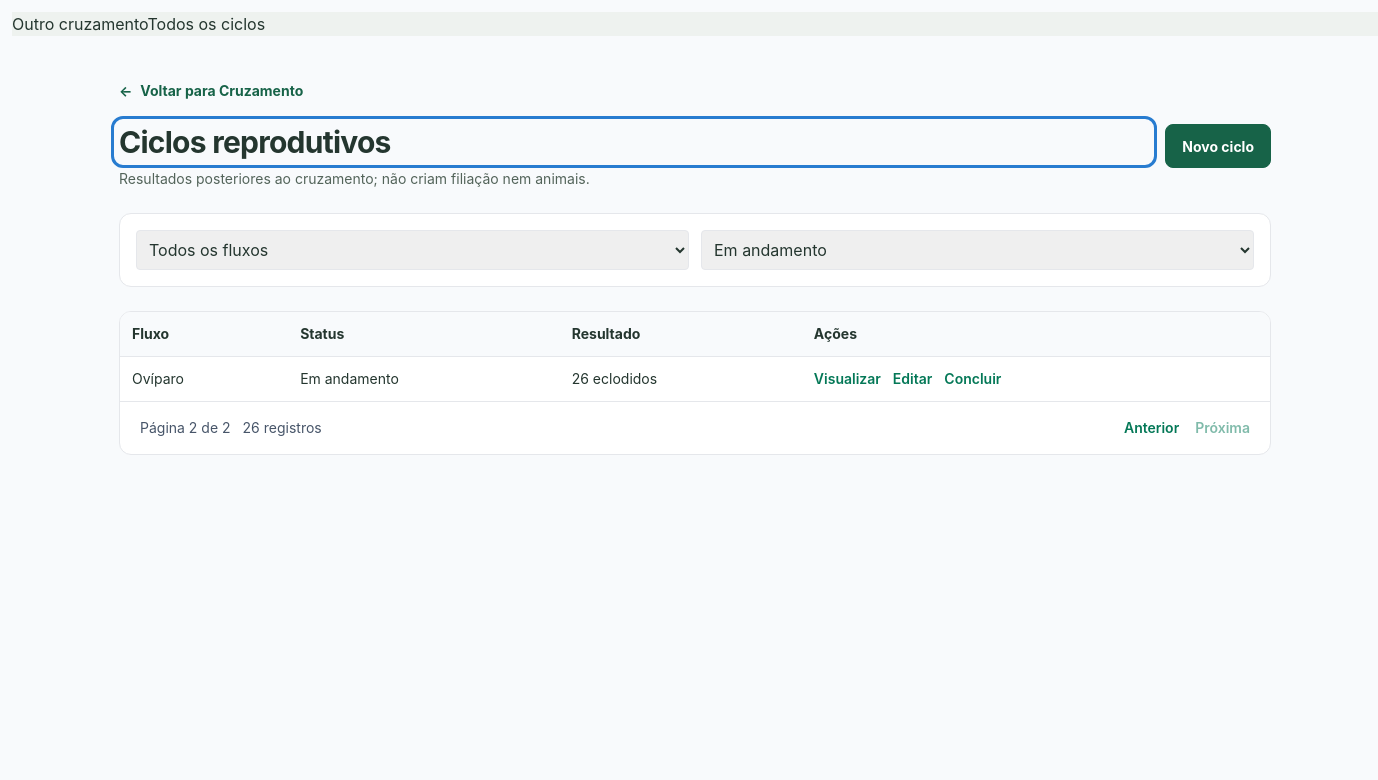
Scenario: ReproductiveCycleListPage pagination › keeps the list page, filters and parent after saving an edit from Editar
Expected: the text "26 eclodidos" is shown, [560, 356, 802, 401]
Click the link "Editar".
click(913, 379)  # box [893, 369, 932, 389]
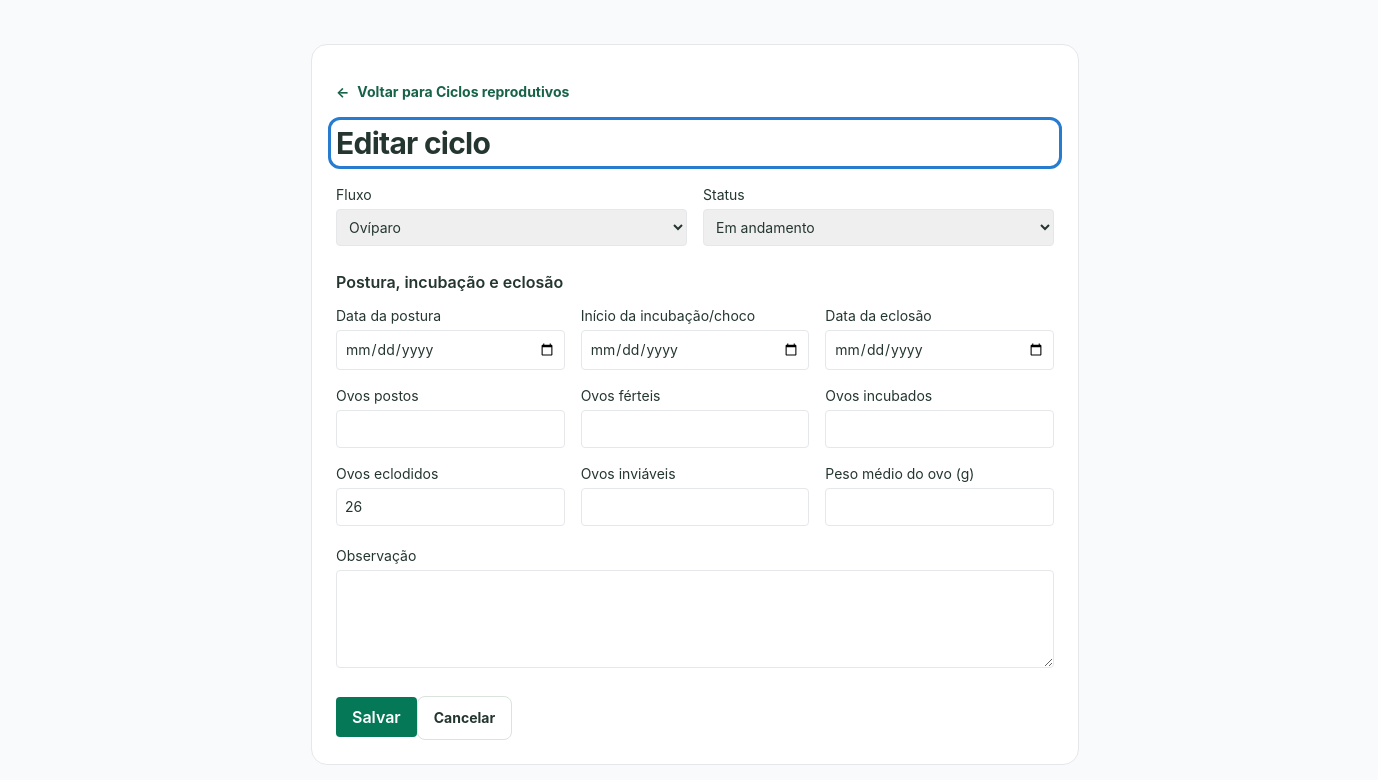
Expected: the number field showing "26" is shown, [336, 488, 565, 526]
Type "TEST-PAGINATION" into the text box labelled "Observação".
click(695, 619); type("TEST-PAGINATION")  # box [336, 570, 1054, 668]
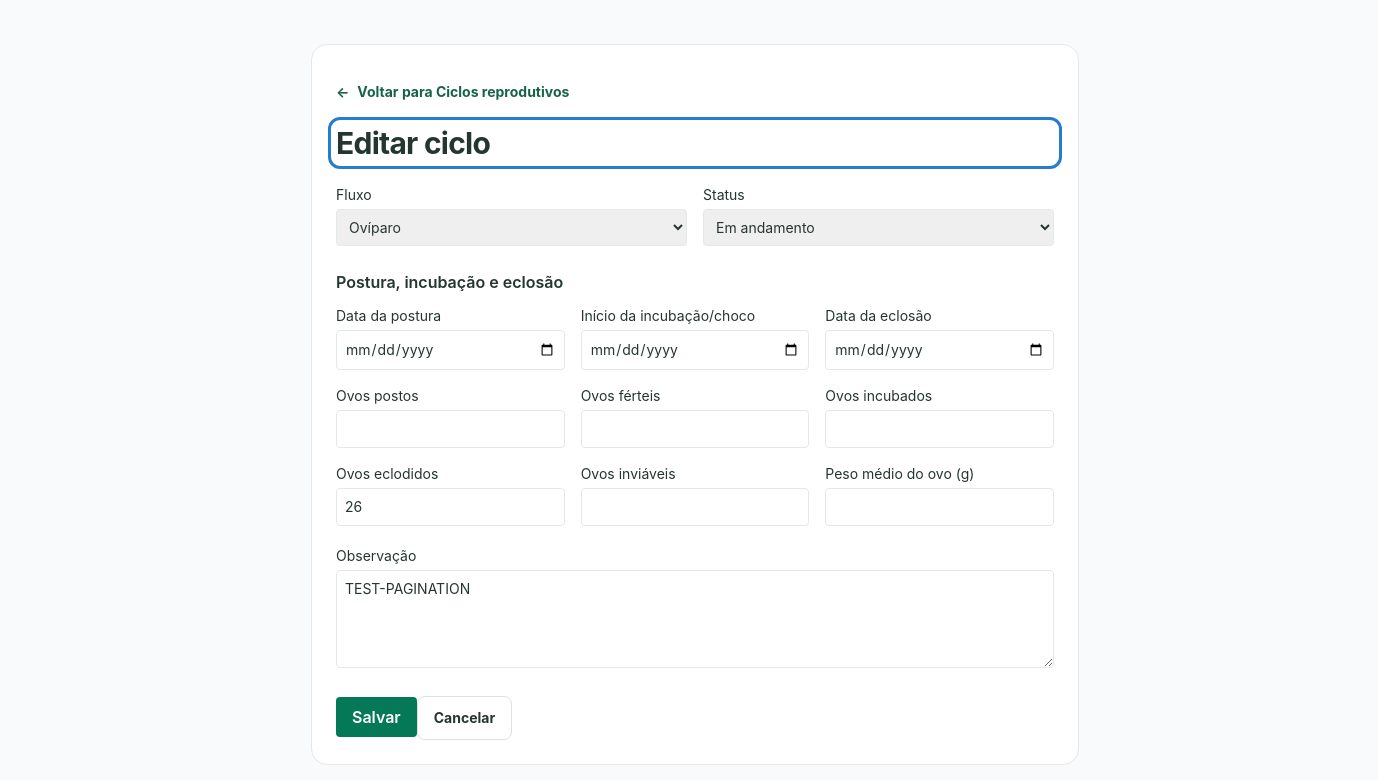
Click the button "Salvar".
click(376, 717)  # box [336, 697, 417, 737]
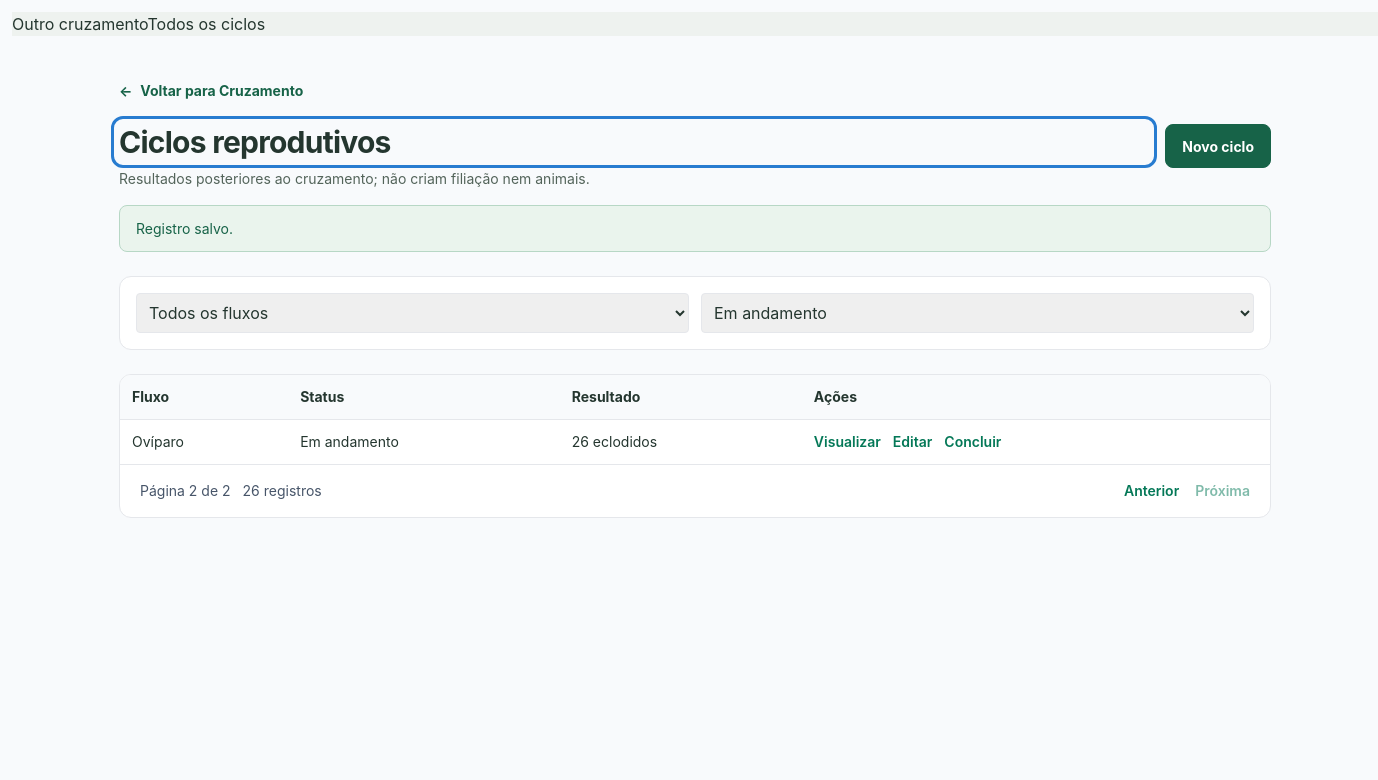
Expected: the text "Página 2 de 2" is shown, [140, 482, 231, 499]
Expected: the dropdown named "Status do ciclo" shows "Em andamento", [701, 293, 1254, 333]
